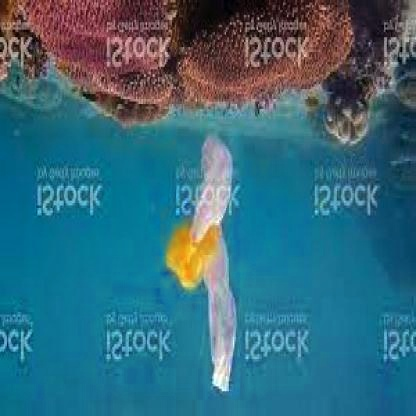pbag: (165, 134, 239, 396)
